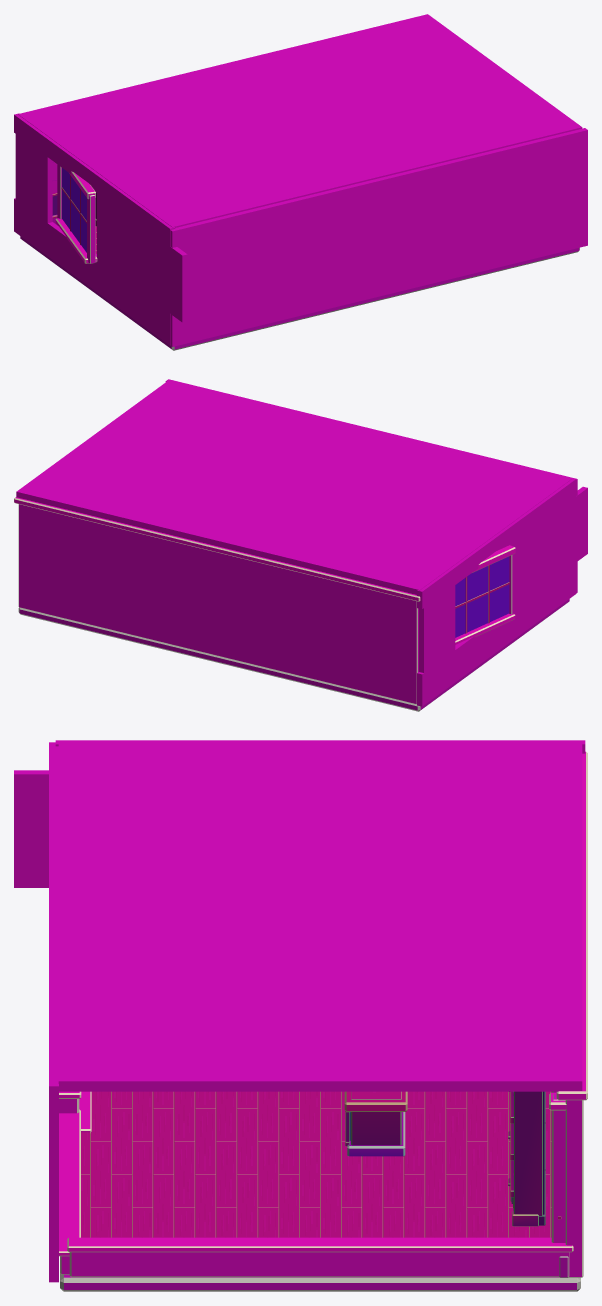
File: arcana-shop-astra.glb
3 views of the same model, one above another, from view 1: azimuth 30°, elevation 25°; view 2: azimuth 150°, elevation 25°; view 3: azimuth 270°, elevation 25° (orthographic). The views are drawn at different scales.
Visible parts, largest first — view 1: AstraLightBlockers.003, AstraArchitecture.003, AstraWindowSky.001; view 2: AstraLightBlockers.003, AstraArchitecture.003, AstraWindowSky.001; view 3: AstraLightBlockers.003, AstraFloor.003, AstraArchitecture.003, AstraCabinet_travel_2.001, AstraCounter.003.
Part boxes in pixels (box(x1,y1,x2,y2)): AstraLightBlockers.003: box(14, 14, 587, 346); AstraArchitecture.003: box(20, 161, 579, 350); AstraWindowSky.001: box(62, 168, 86, 252); AstraLightBlockers.003: box(16, 379, 587, 706); AstraArchitecture.003: box(14, 497, 569, 711); AstraWindowSky.001: box(455, 556, 509, 637); AstraLightBlockers.003: box(14, 740, 585, 1282); AstraFloor.003: box(81, 1091, 551, 1237); AstraArchitecture.003: box(59, 751, 587, 1291); AstraCabinet_travel_2.001: box(508, 1091, 545, 1226); AstraCounter.003: box(344, 1091, 407, 1156).
Size of the model in its own units: 15.03 by 4.21 by 10.3.
23 materials, 2 textured.
